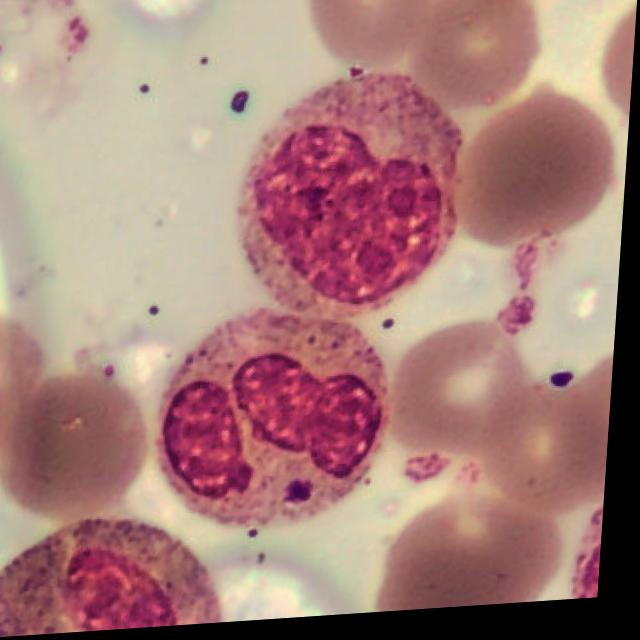Metamielocito: (243, 75, 465, 313)
Neutrofilo segmentado: (162, 310, 396, 538)
